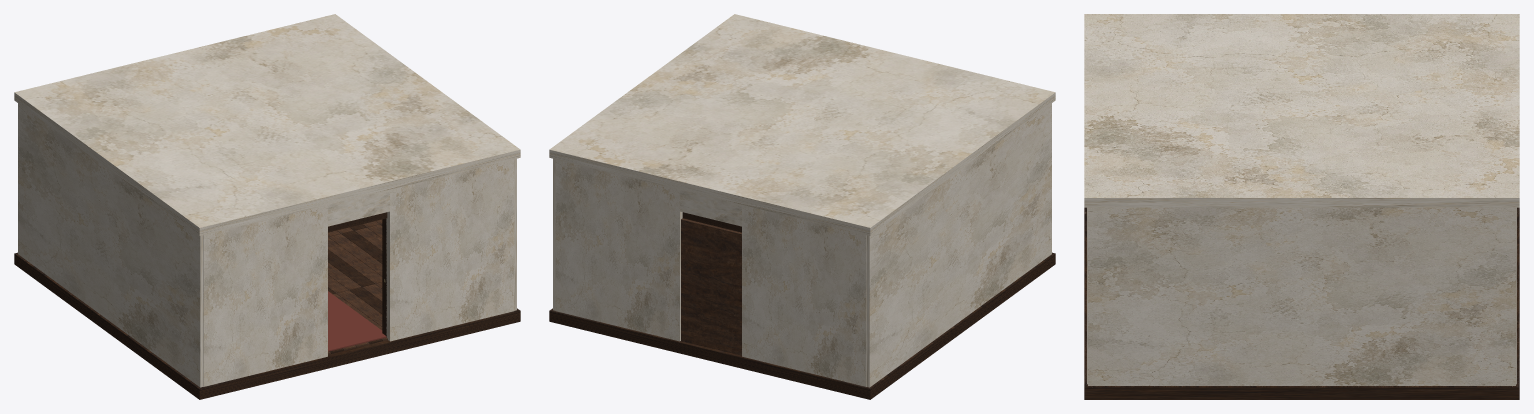
Rendered from corridor.glb.
The picture shows the model from 3 angles, left to right: view 1: azimuth 30°, elevation 25°; view 2: azimuth 150°, elevation 25°; view 3: azimuth 270°, elevation 25°; orthographic projection. The views are drawn at different scales.
Visible parts, largest first — view 1: ceiling, part_72, part_111, part_108, floor, carpet, part_114, part_55, part_58, part_116, part_52, part_47 (+2 smaller); view 2: ceiling, part_72, part_101, part_98, exit_door, floor, part_104, part_85; view 3: ceiling, part_85, floor.
Boxes of the visible parts, x1,y1,x2,y2 form: ceiling: [14, 14, 520, 235]; part_72: [18, 103, 203, 387]; part_111: [386, 159, 514, 341]; part_108: [203, 205, 327, 386]; floor: [14, 252, 520, 399]; carpet: [328, 291, 386, 351]; part_114: [328, 189, 389, 226]; part_55: [328, 237, 382, 283]; part_58: [329, 234, 382, 276]; part_116: [382, 218, 386, 337]; part_52: [328, 250, 374, 286]; part_47: [336, 290, 382, 326]; ceiling: [549, 14, 1055, 235]; part_72: [866, 103, 1051, 387]; part_101: [555, 159, 682, 341]; part_98: [742, 205, 866, 386]; exit_door: [681, 218, 741, 355]; floor: [549, 252, 1055, 399]; part_104: [680, 189, 741, 226]; part_85: [553, 158, 555, 310]; ceiling: [1084, 14, 1519, 207]; part_85: [1088, 207, 1515, 385]; floor: [1084, 207, 1519, 399].
Bounding box in the file's own units: 6.2 × 3.18 × 6.2.
Materials: 8 (4 with a texture image).
